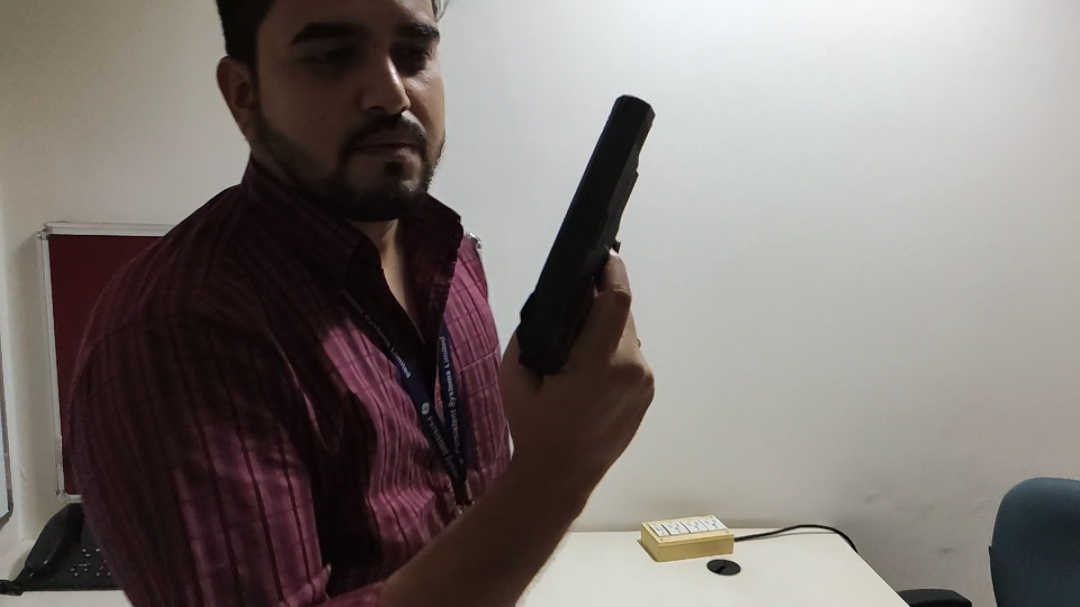gun: (491, 72, 686, 410)
